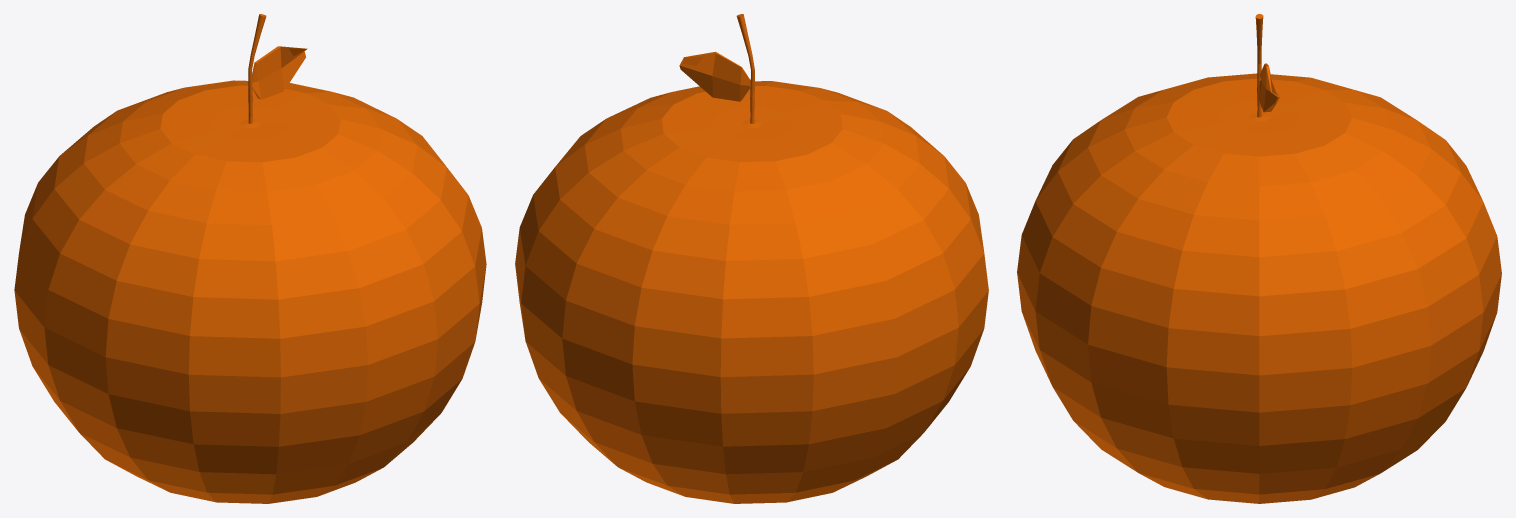
File: Naranja.fbx
3 renders of one model, left to right at view 1: azimuth 30°, elevation 25°; view 2: azimuth 150°, elevation 25°; view 3: azimuth 270°, elevation 25°, orthographic.
Parts seen in each view (by area): view 1: Sphere; view 2: Sphere; view 3: Sphere.
Boxes of the visible parts, <box> form: Sphere: <box>14,14,486,503</box>; Sphere: <box>515,14,988,503</box>; Sphere: <box>1017,14,1501,503</box>.
Bounding box in the file's own units: 6.92 × 7.25 × 6.93.
